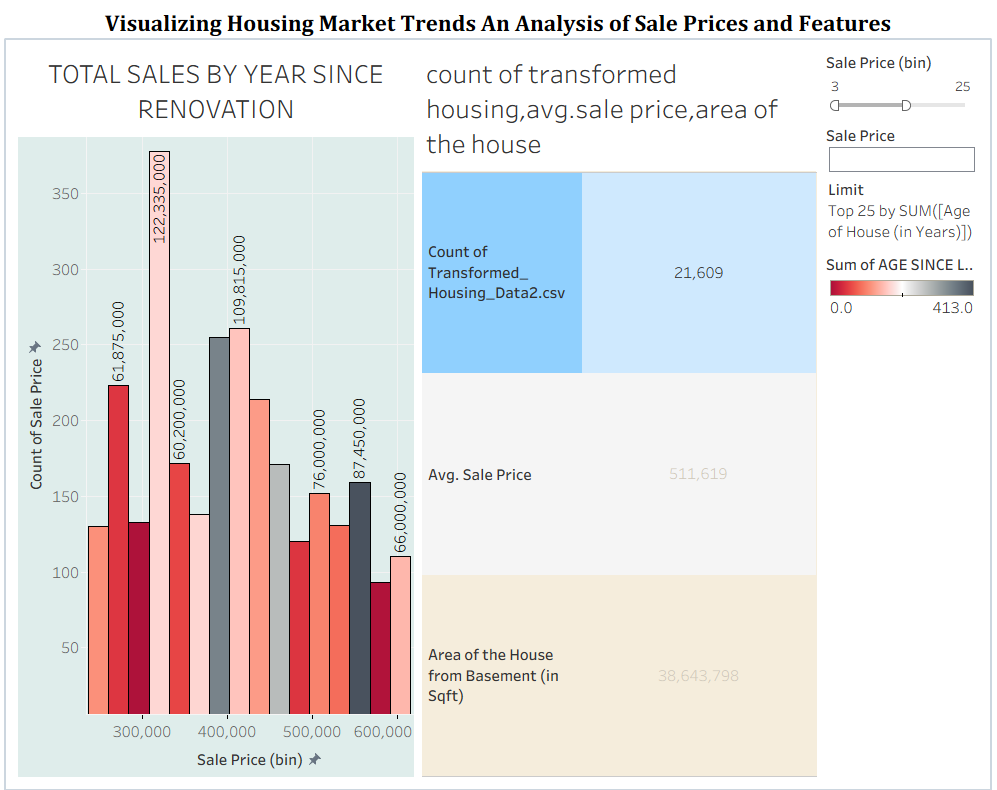

The dashboard page shown, as its layout file describes it:
{"tool":"tableau","page":{"name":"Dashboard 1","canvas":[1000,800],"ordinal":0},"visuals":[{"type":"title","box":[8,8,984,35]},{"type":"worksheet","title":"Sheet 2","mark":"Automatic","rows":["Sale_Price"],"cols":["Sale Price (bin)"],"box":[16,51,404,733]},{"type":"worksheet","title":"Sheet 1","mark":"Automatic","box":[420,51,404,733]},{"type":"filter","title":"Sheet 2","param":"[federated.0ei5nby0j64o5r172oxqs13wyyw1].[none:Sale Price (bin):qk]","box":[824,51,160,73]},{"type":"filter","title":"Sheet 2","param":"[federated.0ei5nby0j64o5r172oxqs13wyyw1].[none:Sale_Price:ok]","box":[824,124,160,129]},{"type":"legend","title":"Sheet 2","param":"[federated.0ei5nby0j64o5r172oxqs13wyyw1].[sum:Years Since Renovation:qk]","box":[824,253,160,73]}]}

Visuals, with their boxes in screenshot pixels (x1, y1, x2, y2), scaled from the page's 1000x800 canvas onto the 997x790 screenshot:
title: region(8, 8, 989, 42)
"Sheet 2" worksheet: region(16, 50, 419, 774)
"Sheet 1" worksheet: region(419, 50, 822, 774)
"Sheet 2" filter: region(822, 50, 981, 122)
"Sheet 2" filter: region(822, 122, 981, 250)
"Sheet 2" legend: region(822, 250, 981, 322)
